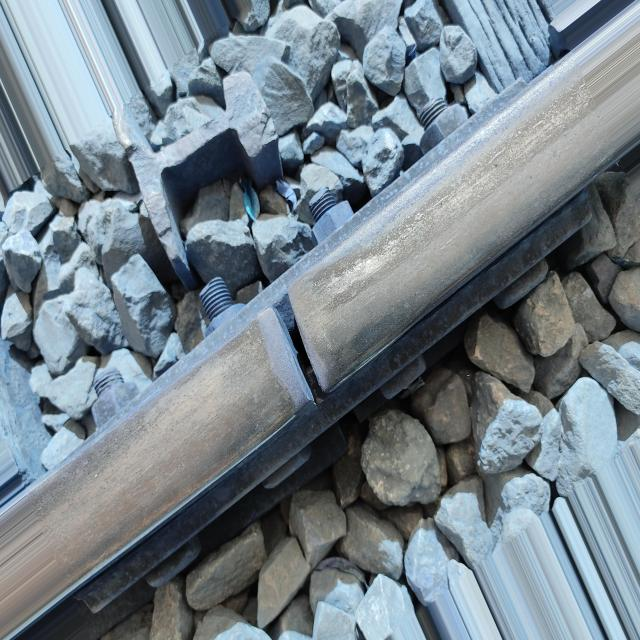crack: (260, 267, 342, 438)
